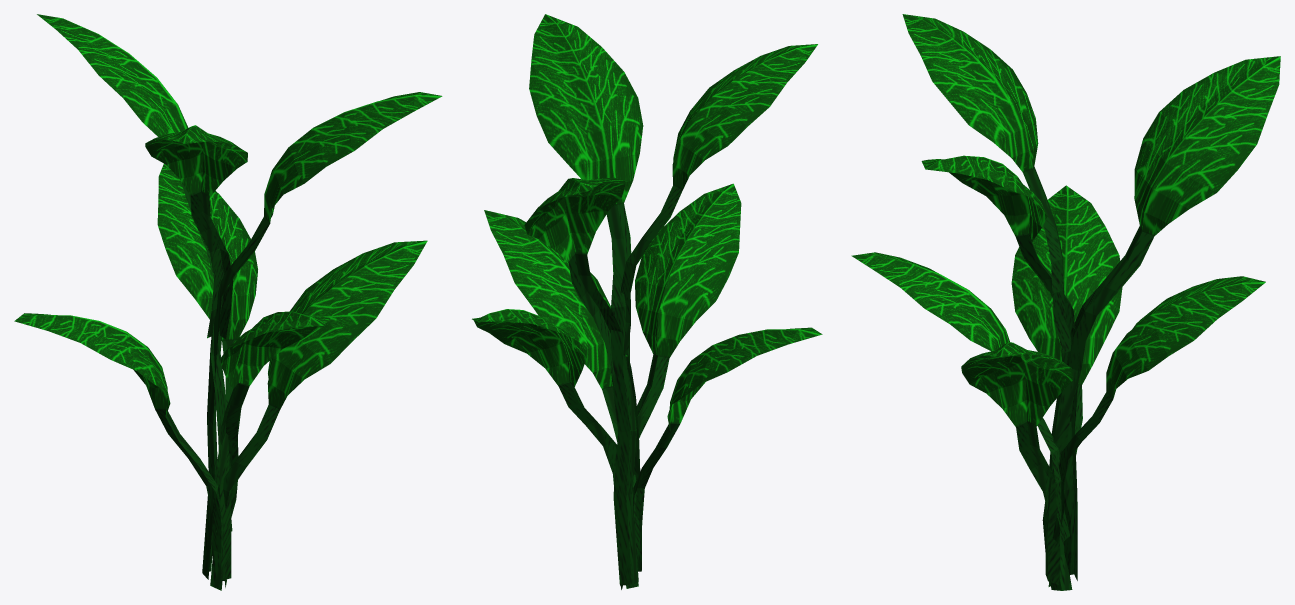
The model's file is Fern6.obj.
3 renders of one model, left to right at view 1: azimuth 30°, elevation 25°; view 2: azimuth 150°, elevation 25°; view 3: azimuth 270°, elevation 25°, orthographic. The views are drawn at different scales.
Parts seen in each view (by area): view 1: Sphere.004; view 2: Sphere.004; view 3: Sphere.004.
Boxes of the visible parts, x1=… form: Sphere.004: x1=14, y1=14, x2=442, y2=590; Sphere.004: x1=472, y1=14, x2=822, y2=589; Sphere.004: x1=851, y1=14, x2=1280, y2=590.
Size of the model in its own units: 2.57 by 3.41 by 2.55.
